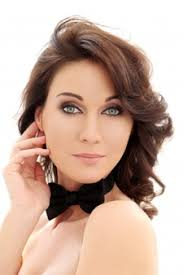bow: (42, 178, 110, 223)
